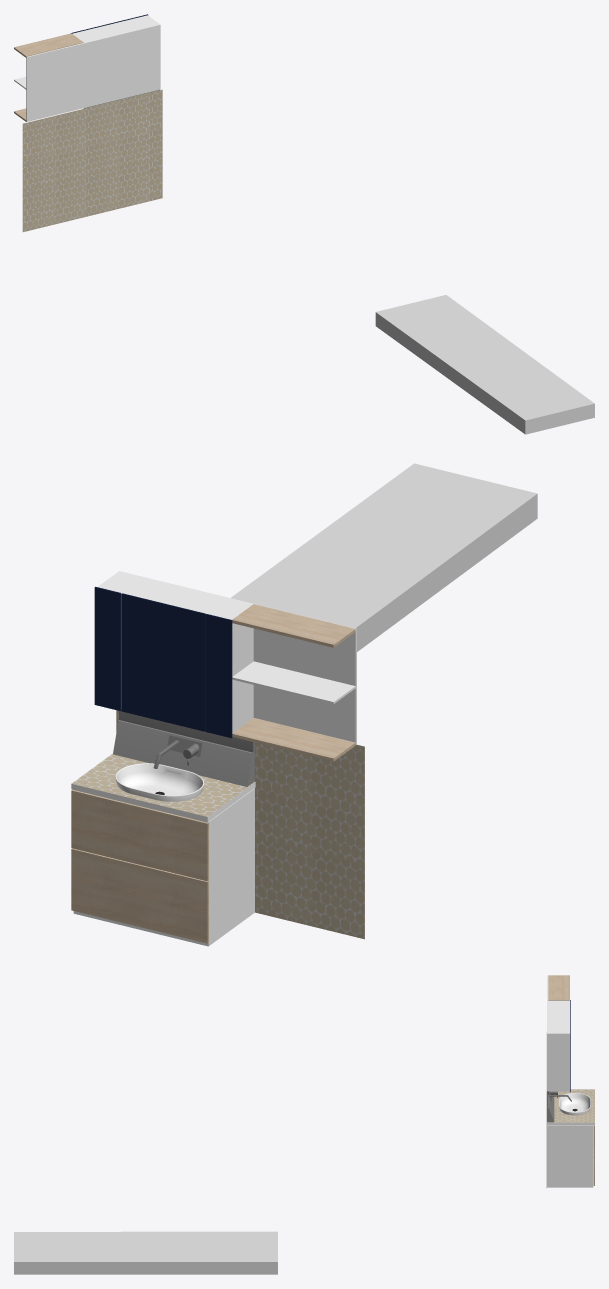
File: new faucet 1.fbx
3 views of the same model, one above another, from view 1: azimuth 30°, elevation 25°; view 2: azimuth 150°, elevation 25°; view 3: azimuth 270°, elevation 25° (orthographic). The views are drawn at different scales.
Parts seen in each view (by area): view 1: Box2131640250, Box2131640253, Box2131640243, Group008; view 2: Box2131640243, Group008, Box2131640253, Box2131640250, Sink Luv 037950 F002, Box2131640271; view 3: Box2131640253, Box2131640243, Group008, Sink Luv 037950 F002.
Boxes of the visible parts, bbox=[...] form: Box2131640250: bbox=[22, 89, 162, 231]; Box2131640253: bbox=[375, 295, 594, 434]; Box2131640243: bbox=[26, 14, 160, 121]; Group008: bbox=[14, 33, 83, 121]; Box2131640243: bbox=[73, 571, 356, 946]; Group008: bbox=[71, 604, 355, 943]; Box2131640253: bbox=[231, 463, 537, 651]; Box2131640250: bbox=[116, 710, 364, 939]; Sink Luv 037950 F002: bbox=[115, 763, 204, 801]; Box2131640271: bbox=[71, 782, 255, 822]; Box2131640253: bbox=[14, 1231, 277, 1274]; Box2131640243: bbox=[547, 975, 593, 1187]; Group008: bbox=[547, 975, 594, 1185]; Sink Luv 037950 F002: bbox=[559, 1093, 590, 1115].
Size of the model in its own units: 3025 by 2192 by 6296.
9 materials, 3 textured.
